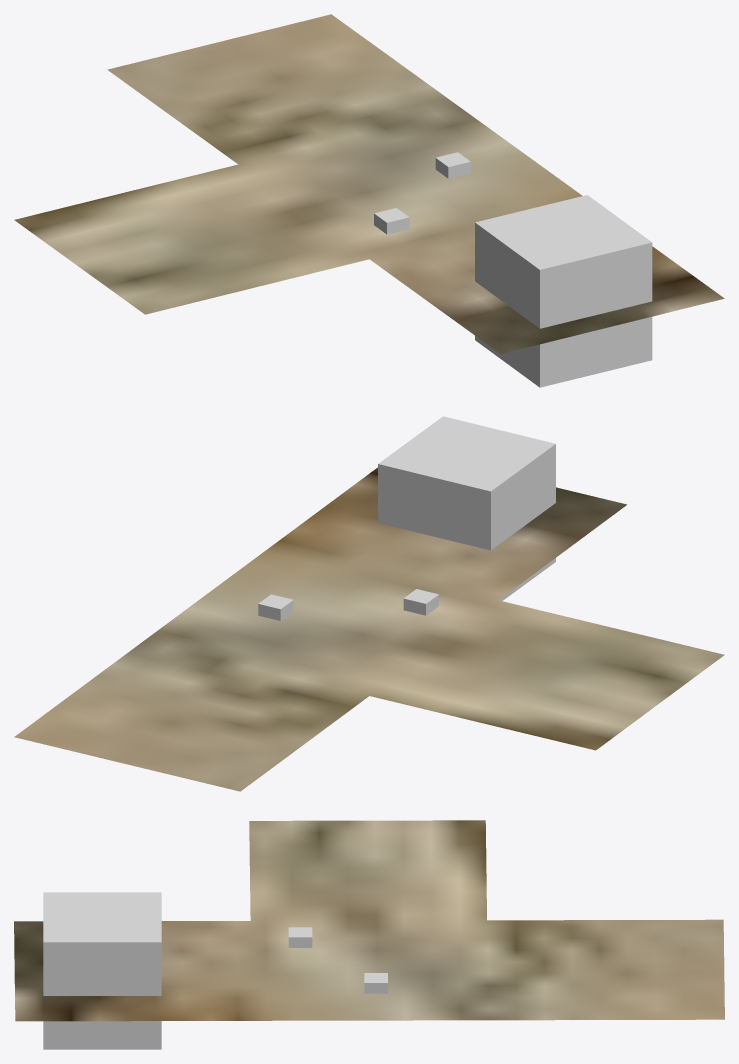
The model's file is staging-world-state.gltf.
3 renders of one model, top to bottom at view 1: azimuth 30°, elevation 25°; view 2: azimuth 150°, elevation 25°; view 3: azimuth 270°, elevation 25°, orthographic. The views are drawn at different scales.
Visible parts, largest first — view 1: Plane.015, Cube.002, Cube, Cube.001; view 2: Plane.015, Cube.002, Cube.001, Cube; view 3: Plane.015, Cube.002, Cube, Cube.001.
Boxes of the visible parts, box(x1,y1,x2,y2) form: Plane.015: box(14, 14, 724, 353); Cube.002: box(475, 195, 652, 387); Cube: box(374, 208, 409, 234); Cube.001: box(435, 152, 470, 178); Plane.015: box(14, 467, 724, 791); Cube.002: box(378, 416, 555, 600); Cube.001: box(258, 594, 293, 620); Cube: box(403, 589, 438, 615); Plane.015: box(14, 820, 724, 1021); Cube.002: box(43, 892, 161, 1049); Cube: box(288, 927, 312, 947); Cube.001: box(364, 973, 387, 993).
Size of the model in its own units: 40.22 by 10 by 60.11.
Materials: 1 (1 with a texture image).
